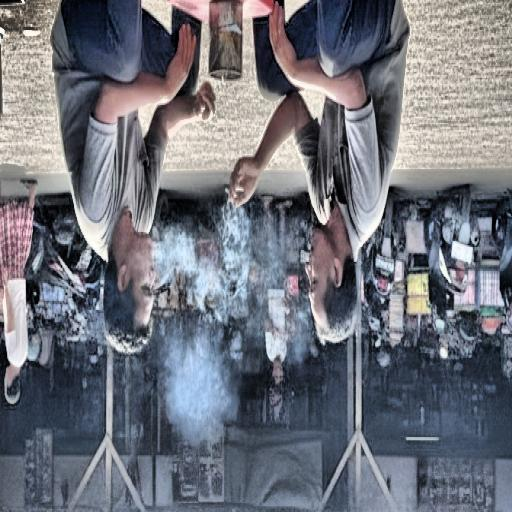Rokok: (229, 3, 368, 207), (152, 183, 261, 437)
